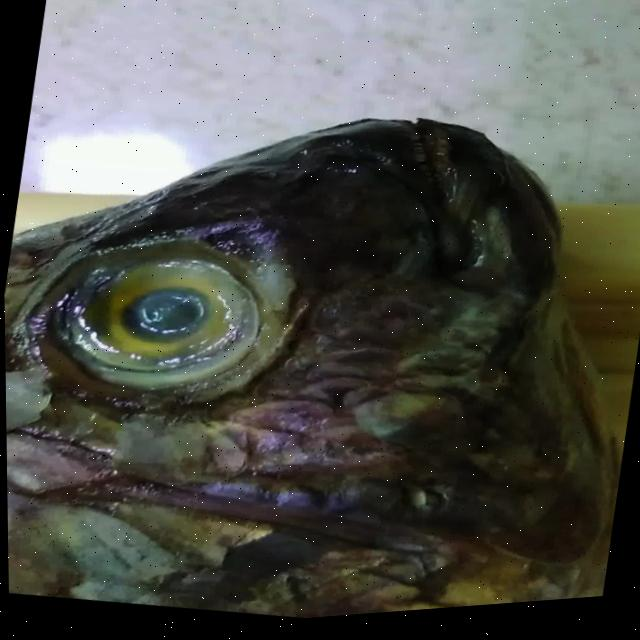Non-Fresh: (13, 199, 298, 445)
